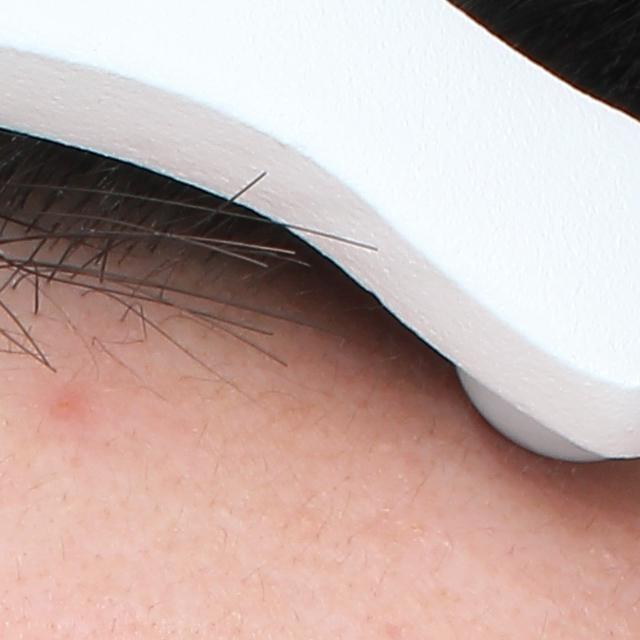papule: (51, 392, 87, 428)
